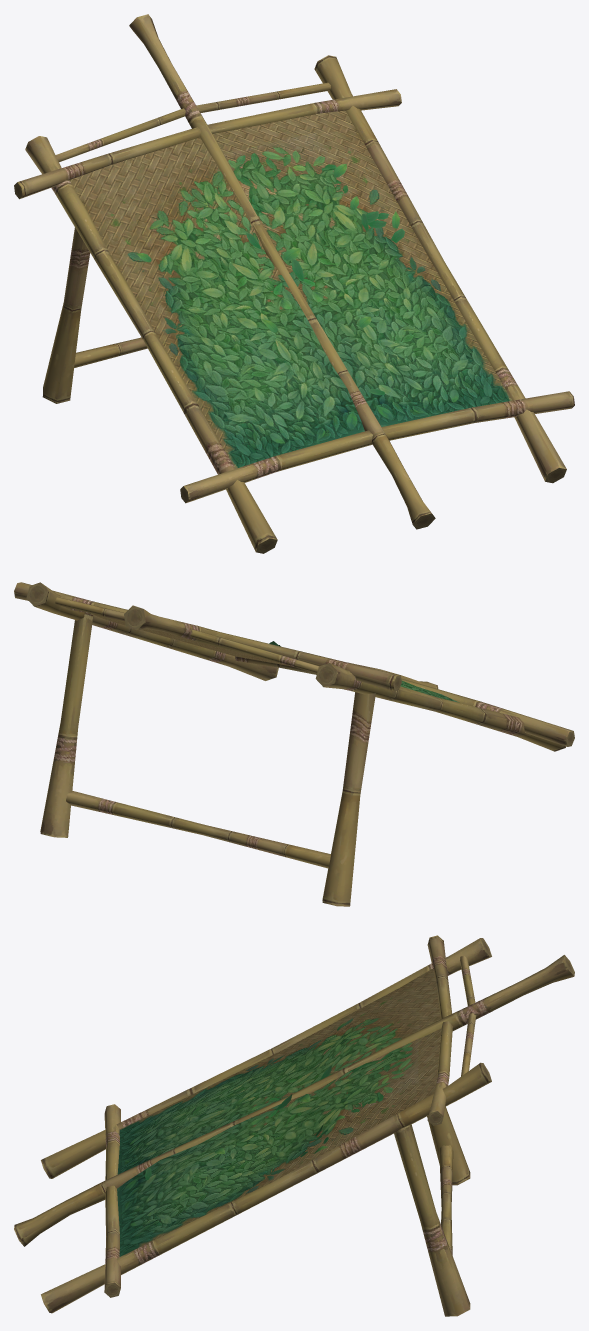
The model's file is Homeworld_Exterior_Cyg_Decoration_Prop_Zhuzi_01_Vo.fbx.
3 renders of one model, top to bottom at view 1: azimuth 30°, elevation 25°; view 2: azimuth 150°, elevation 25°; view 3: azimuth 270°, elevation 25°, orthographic. The views are drawn at different scales.
Visible parts, largest first — view 1: Area_Cyg_Prop_QYZ_Zhuzi_01_Vo; view 2: Area_Cyg_Prop_QYZ_Zhuzi_01_Vo; view 3: Area_Cyg_Prop_QYZ_Zhuzi_01_Vo.
Boxes of the visible parts, bbox=[...] form: Area_Cyg_Prop_QYZ_Zhuzi_01_Vo: bbox=[14, 14, 574, 553]; Area_Cyg_Prop_QYZ_Zhuzi_01_Vo: bbox=[14, 582, 574, 906]; Area_Cyg_Prop_QYZ_Zhuzi_01_Vo: bbox=[14, 935, 574, 1316].
Bounding box in the file's own units: 2.69 × 2.04 × 3.56.
